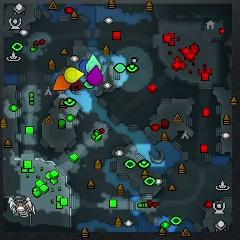p1: (80, 60, 91, 76)
p2: (86, 54, 102, 71)
p3: (87, 66, 104, 87)
p4: (64, 68, 84, 83)
p5: (53, 75, 71, 91)
